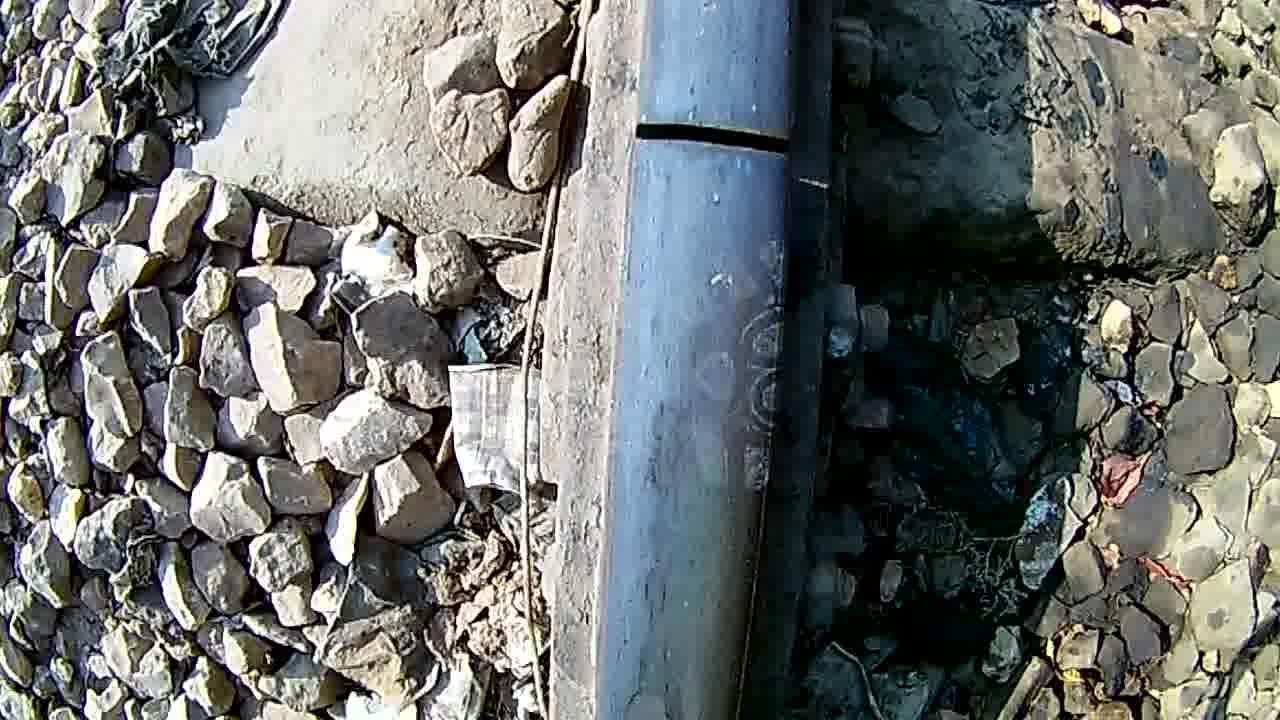crack: (598, 246, 792, 720), (587, 88, 829, 200)
